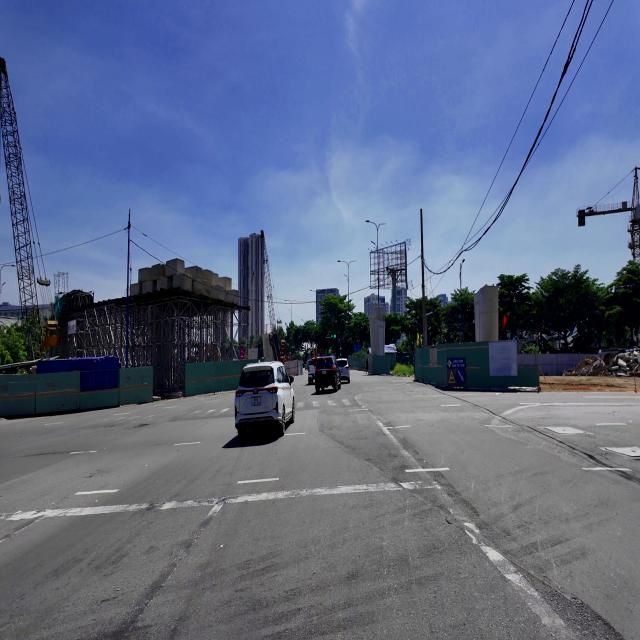car: (235, 362, 294, 439), (315, 356, 341, 392), (337, 358, 350, 383), (308, 359, 315, 384)
